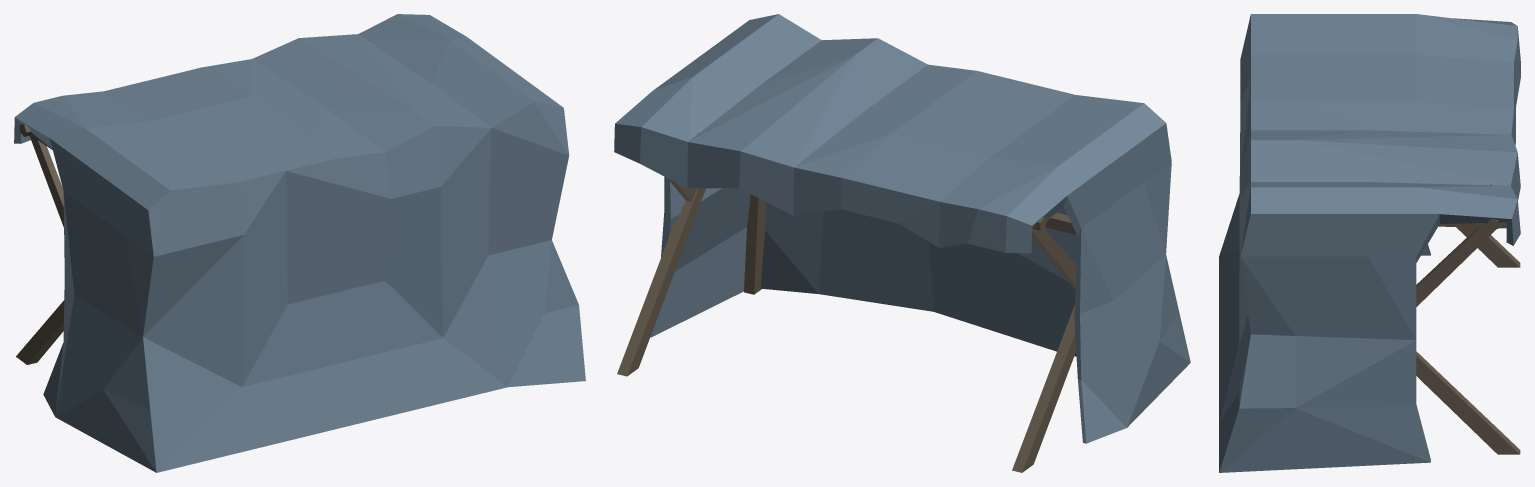
File: Tent_01.glb
3 views of the same model, side by side, from view 1: azimuth 30°, elevation 25°; view 2: azimuth 150°, elevation 25°; view 3: azimuth 270°, elevation 25° (orthographic). The views are drawn at different scales.
Visible parts, largest first — view 1: tent_1; view 2: tent_1; view 3: tent_1.
Boxes of the visible parts, x1=… form: tent_1: x1=14, y1=14, x2=585, y2=472; tent_1: x1=614, y1=14, x2=1190, y2=472; tent_1: x1=1219, y1=14, x2=1520, y2=472.
Bounding box in the file's own units: 6.09 × 3.55 × 3.6.
Materials: 1 (1 with a texture image).
